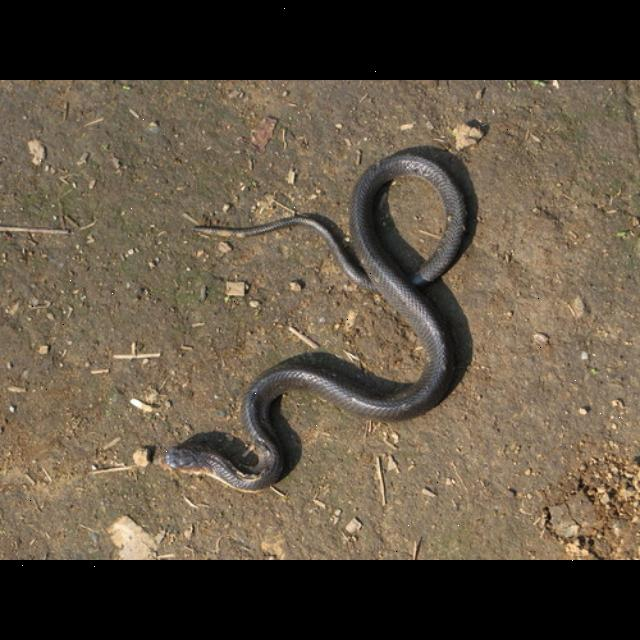snake: (156, 142, 478, 504)
